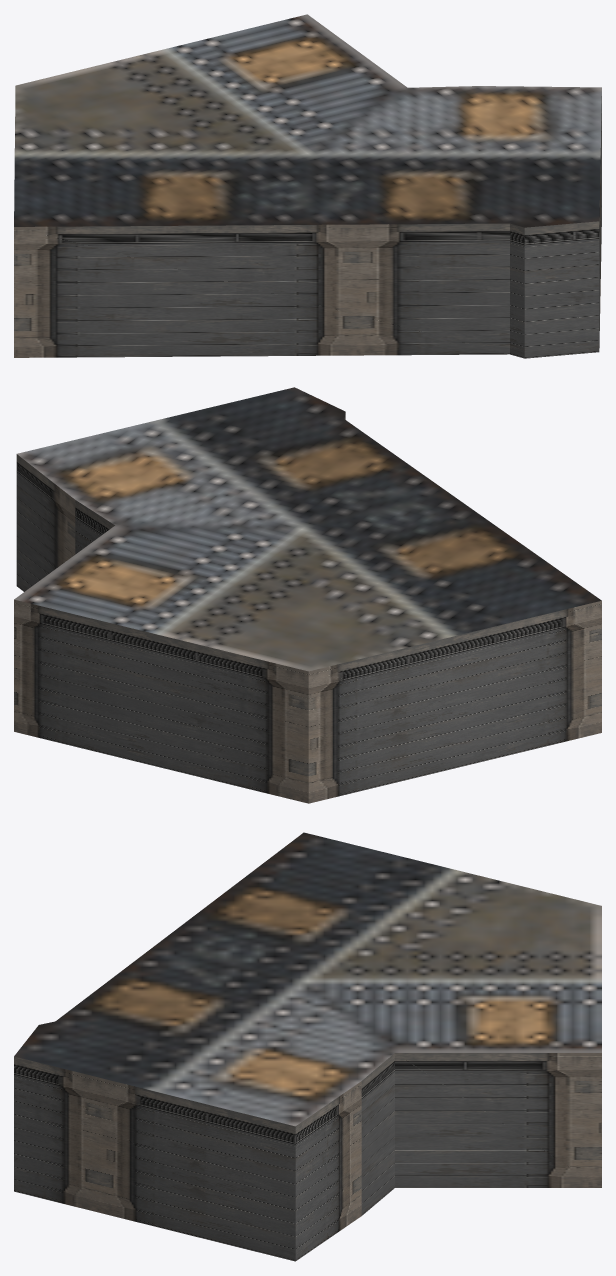
The model's file is hangar_heavy_a_37.glb.
The picture shows the model from 3 angles, top to bottom: view 1: azimuth 30°, elevation 25°; view 2: azimuth 150°, elevation 25°; view 3: azimuth 270°, elevation 25°; orthographic projection. The views are drawn at different scales.
Parts seen in each view (by area): view 1: buildings/saxarba/hangar_heavy/hangar_heavy_a_37; view 2: buildings/saxarba/hangar_heavy/hangar_heavy_a_37; view 3: buildings/saxarba/hangar_heavy/hangar_heavy_a_37.
Boxes of the visible parts, box(x1,y1,x2,y2) form: buildings/saxarba/hangar_heavy/hangar_heavy_a_37: box(14, 14, 601, 358); buildings/saxarba/hangar_heavy/hangar_heavy_a_37: box(14, 387, 601, 803); buildings/saxarba/hangar_heavy/hangar_heavy_a_37: box(14, 832, 601, 1261).
Bounding box in the file's own units: 84 × 18 × 71.
